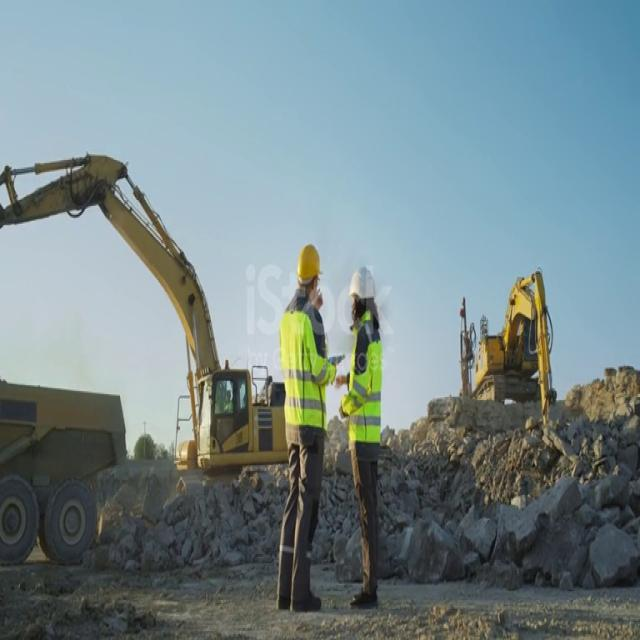capacete: (287, 229, 325, 288), (342, 259, 380, 310)
